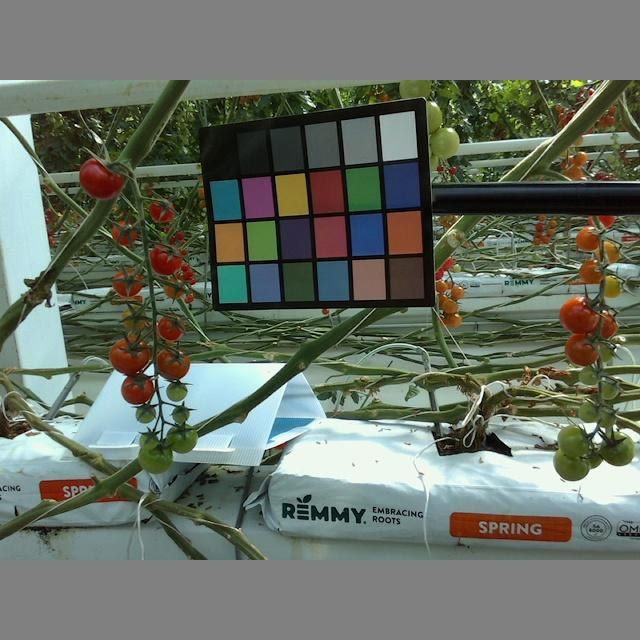green: (428, 123, 460, 164), (554, 443, 588, 481), (556, 423, 590, 459), (139, 442, 174, 475), (601, 433, 635, 466), (400, 81, 435, 109), (166, 426, 199, 455), (576, 400, 601, 424), (596, 379, 622, 401), (578, 363, 600, 387), (426, 102, 442, 135), (135, 402, 156, 425), (595, 406, 618, 427), (166, 382, 187, 402), (170, 403, 190, 424), (138, 429, 159, 448)
pink: (557, 296, 599, 336), (565, 333, 601, 365), (148, 195, 176, 224), (156, 316, 186, 342), (575, 224, 602, 251), (109, 219, 135, 247), (121, 308, 146, 334), (593, 241, 619, 266), (578, 261, 605, 285), (596, 274, 622, 298), (163, 277, 186, 299)
red: (78, 158, 126, 200), (110, 337, 150, 374), (120, 372, 156, 406), (146, 243, 183, 276), (155, 349, 192, 381), (111, 267, 142, 298)
